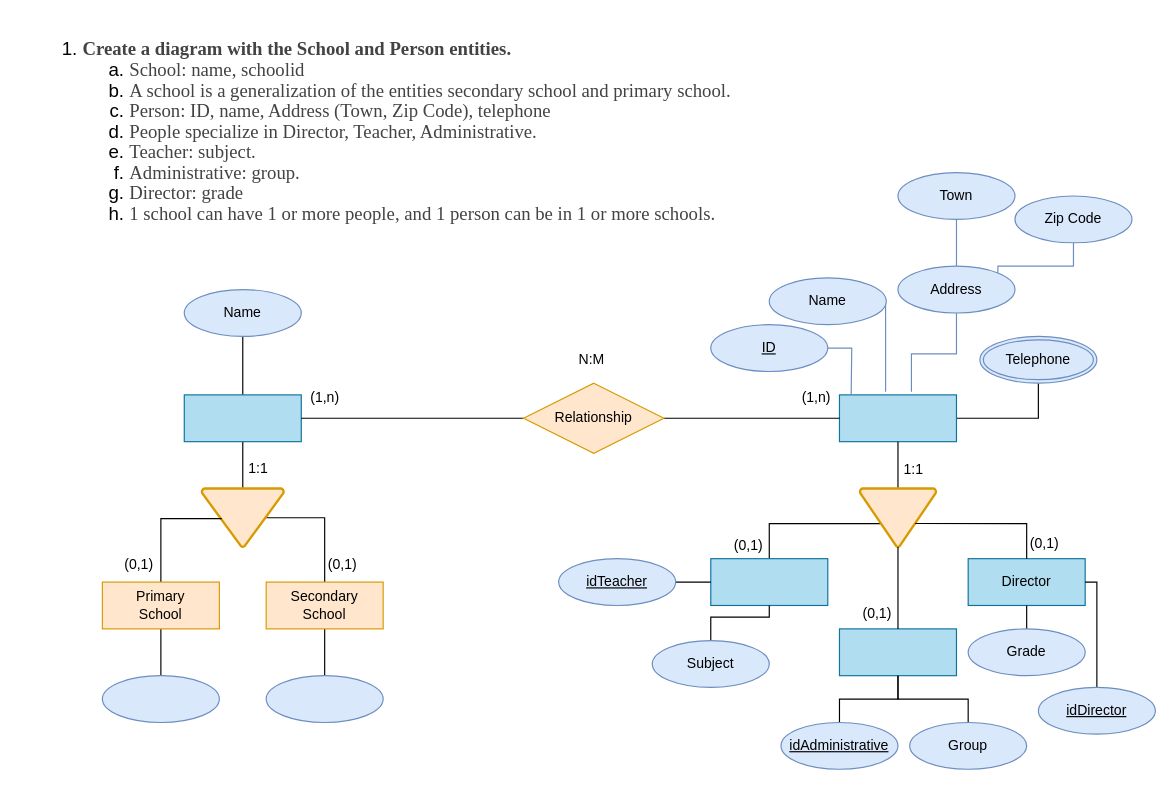
The diagram is 1176 pixels wide and 790 high, and some of its shapes have lost their labels. The box of each missing label's shape, as (x1, y1, x2, y2) in pixels:
Administrative: (838, 628, 956, 676)
are: (858, 487, 937, 548)
idPrimarySchool: (101, 675, 219, 722)
idSecondarySchool: (265, 675, 383, 722)
is: (200, 487, 284, 548)
Person: (838, 394, 956, 442)
School: (183, 394, 301, 442)
Teacher: (710, 558, 828, 605)
